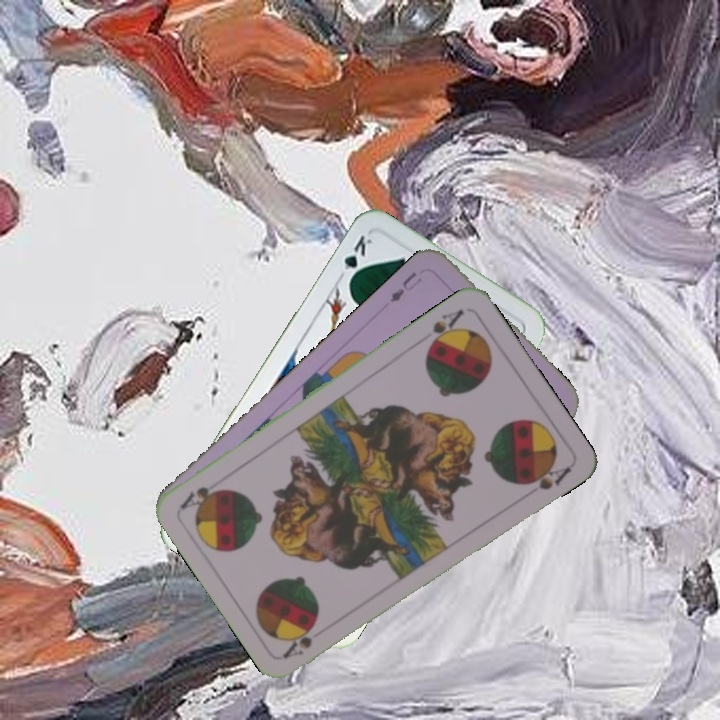EU: (386, 268, 425, 305)
GK: (338, 230, 375, 287)
SA: (423, 305, 467, 352), (279, 622, 318, 661)
